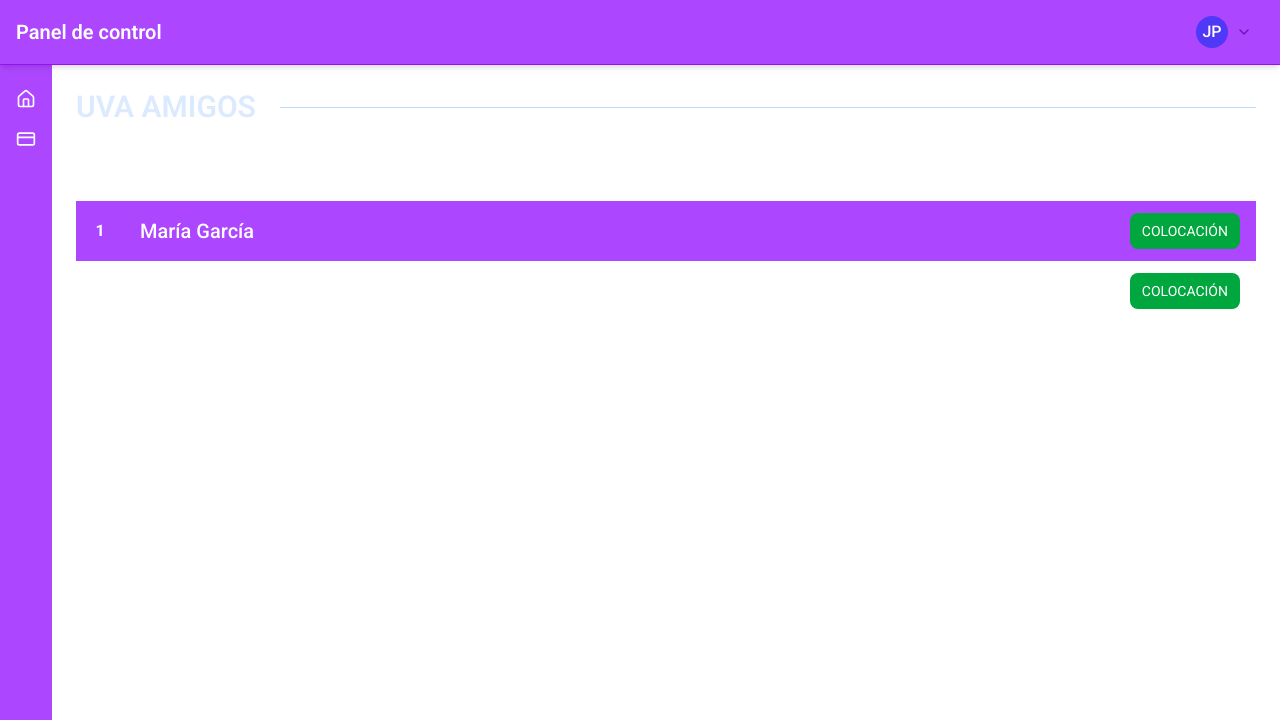
TanquePage › Asignar a otro padre › debe buscar padre por código de referido y mostrar resultado
Expected: the text "María García" is shown, [140, 219, 254, 243]
Abrir modal
Click the button "Colocación" in the row of "María" at (1185, 231), box [1130, 213, 1240, 249]
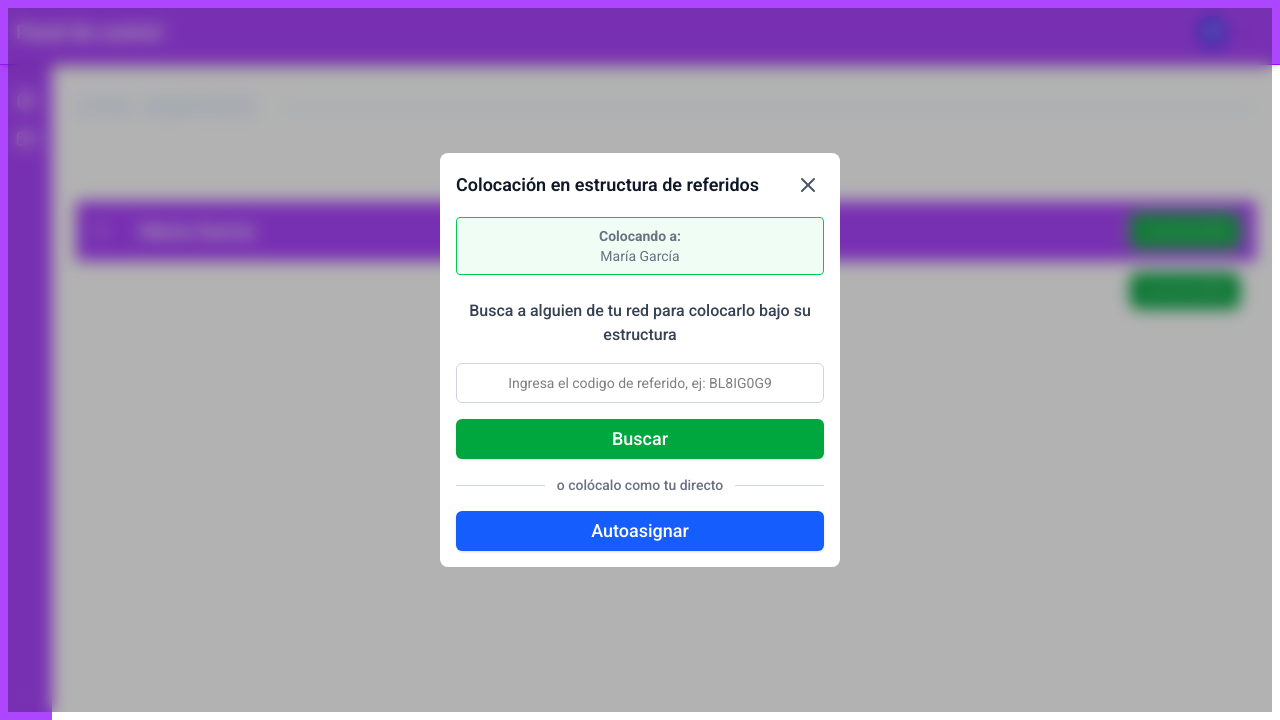
Ingresar código de referido
Type "PAR001" into the field with placeholder "Ingresa el codigo de referido, ej: BL8IG0G9" at (640, 383), box [456, 363, 824, 403]
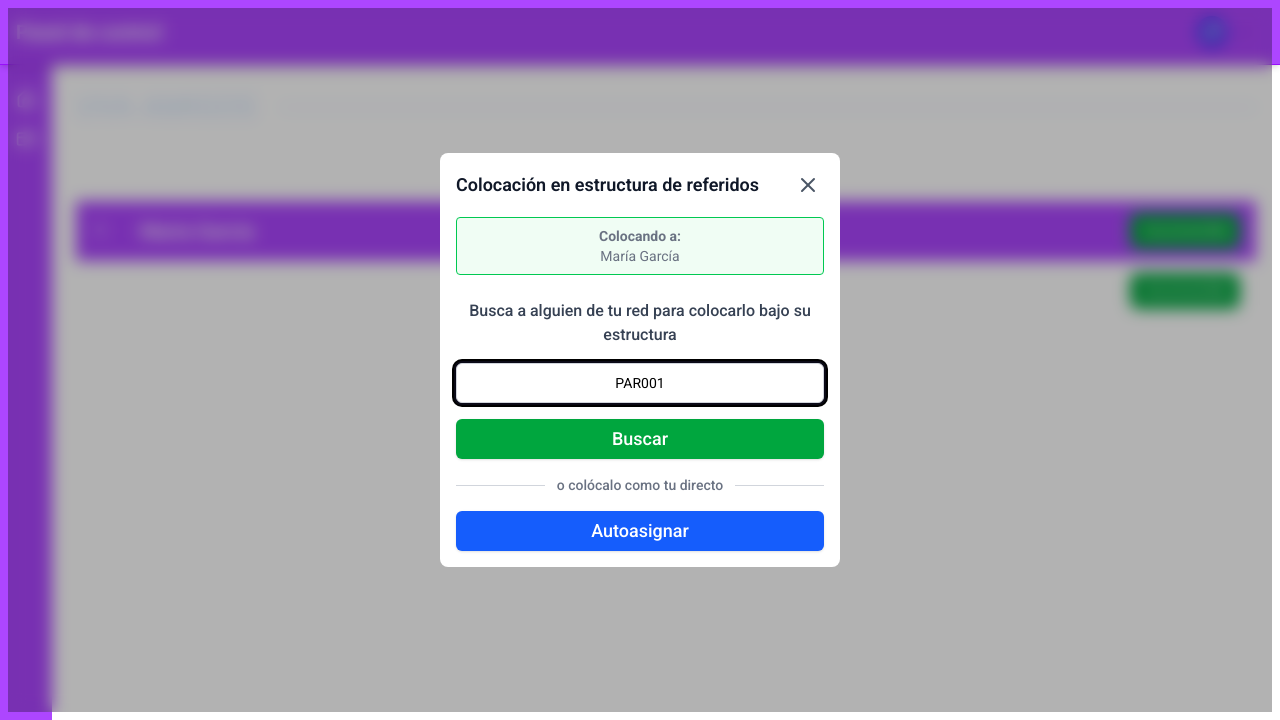
Click the button "Buscar" at (640, 439), box [456, 419, 824, 459]
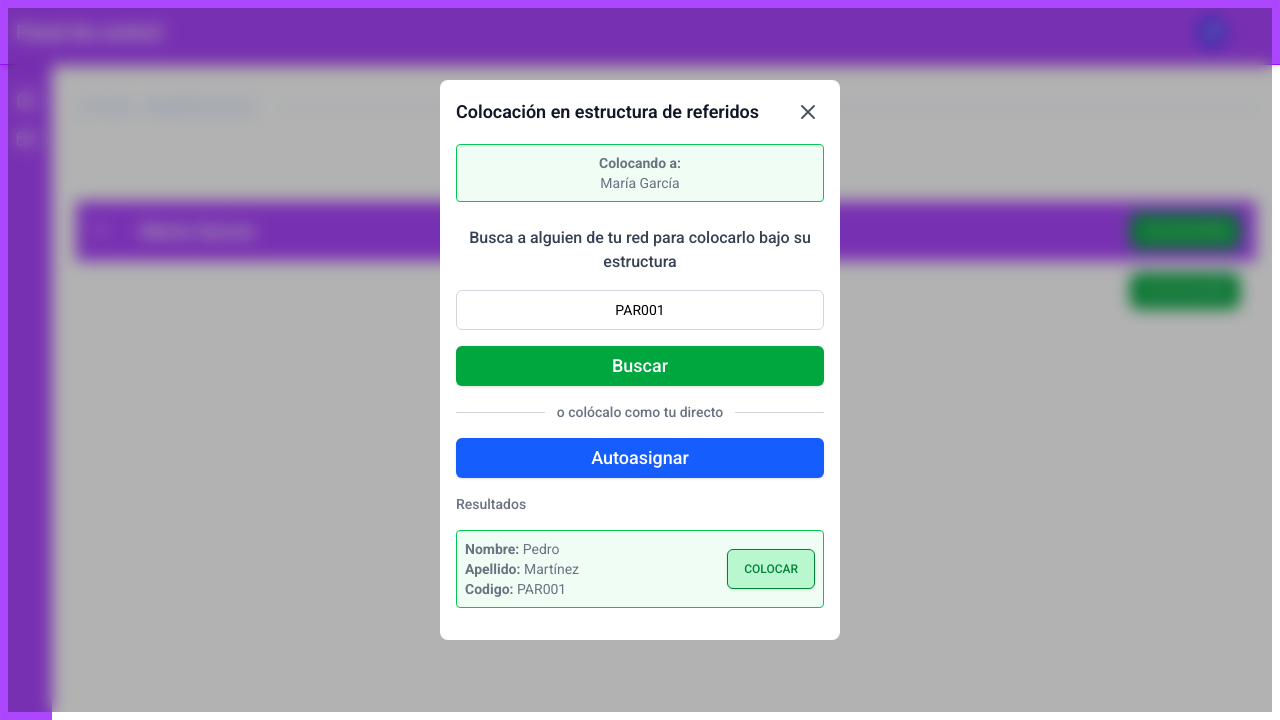
Now the text "Nombre: Pedro" is shown, box [465, 541, 559, 557]
Now the text "Apellido: Martínez" is shown, box [465, 559, 579, 579]
Now the text "Codigo: PAR001" is shown, box [465, 579, 579, 599]
